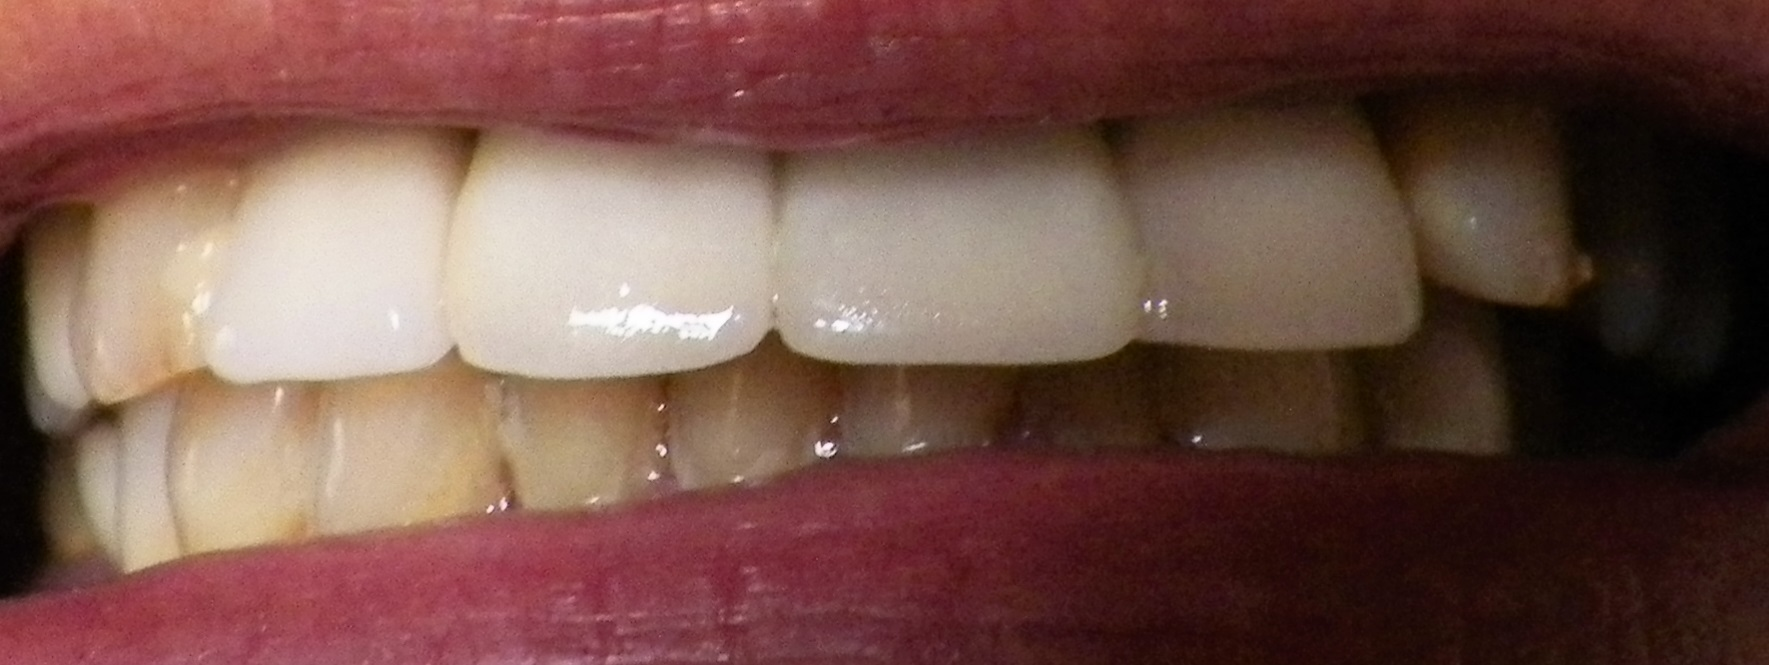boca: (25, 107, 1588, 550)
